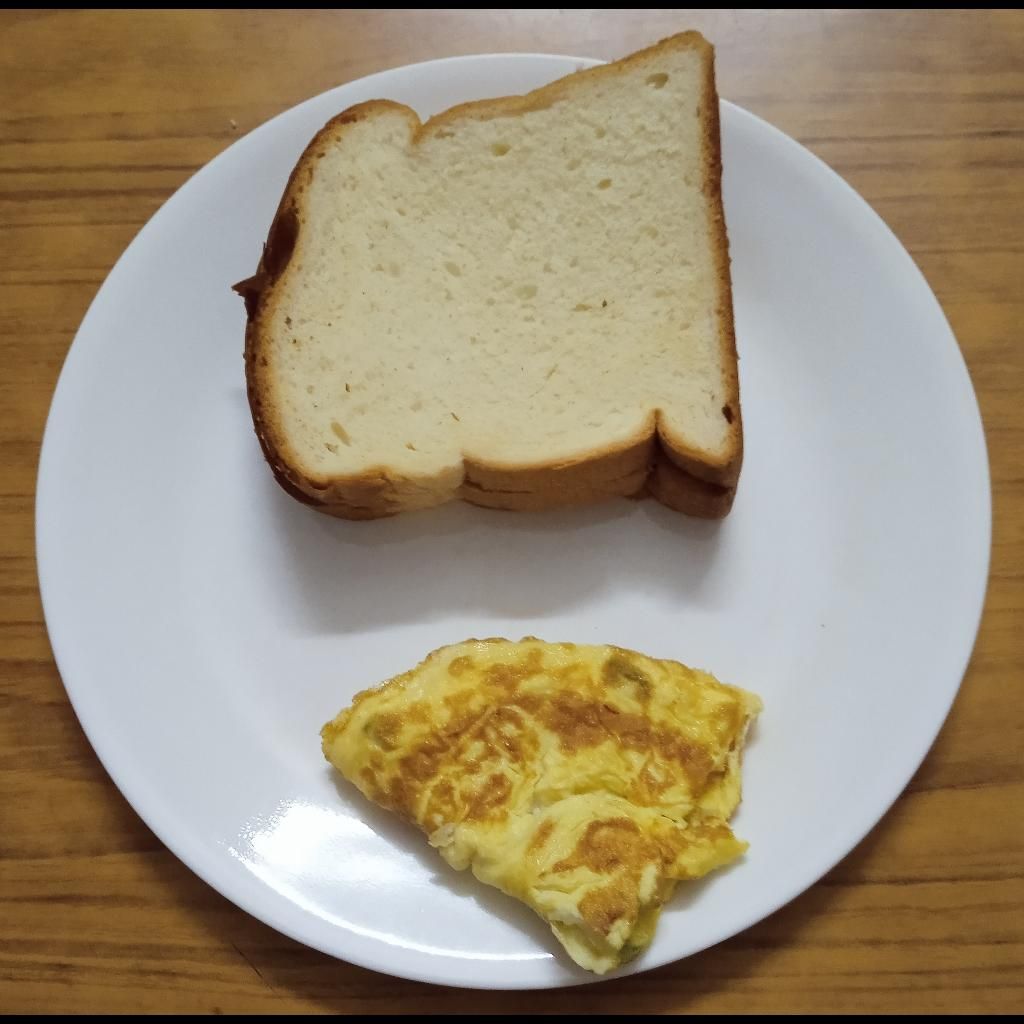bread: (231, 28, 744, 523)
egg-poached: (322, 637, 764, 977)
